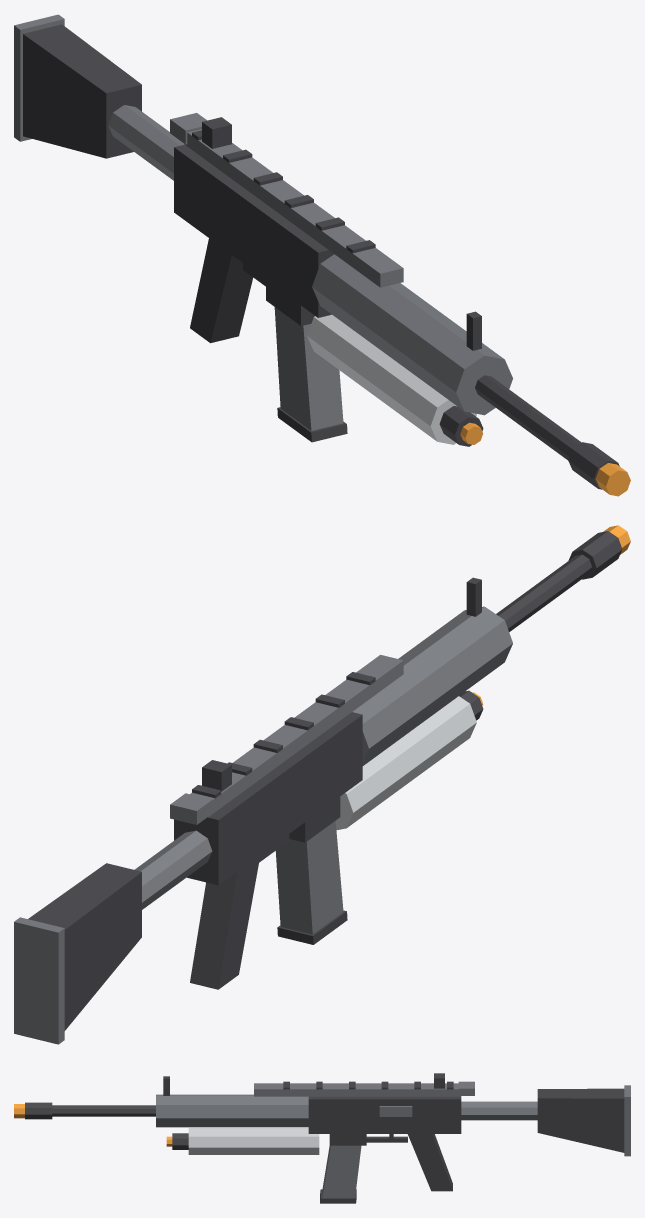
The model's file is paintball_ar.glb.
3 renders of one model, top to bottom at view 1: azimuth 30°, elevation 25°; view 2: azimuth 150°, elevation 25°; view 3: azimuth 270°, elevation 25°, orthographic. The views are drawn at different scales.
Visible parts, largest first — view 1: ARBody, Magazine; view 2: ARBody, Magazine; view 3: ARBody, Magazine.
Boxes of the visible parts, bbox=[...] form: ARBody: bbox=[14, 14, 630, 496]; Magazine: bbox=[274, 307, 347, 442]; ARBody: bbox=[14, 525, 630, 1044]; Magazine: bbox=[275, 821, 347, 944]; ARBody: bbox=[14, 1073, 630, 1191]; Magazine: bbox=[320, 1145, 361, 1203].
Bounding box in the file's own units: 0.064 × 0.249 × 1.13.
